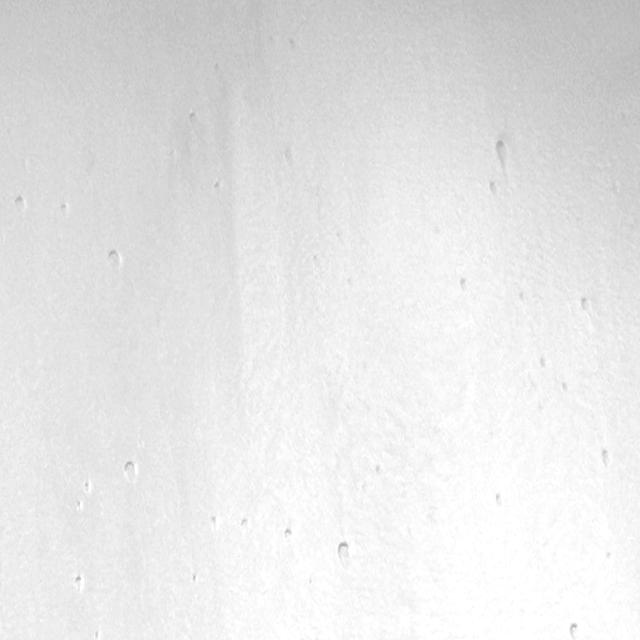pin holes: (489, 140, 512, 172), (333, 540, 356, 570), (105, 246, 126, 275), (120, 458, 141, 485), (183, 110, 204, 136), (576, 294, 597, 318), (596, 447, 616, 472), (13, 193, 30, 218), (486, 180, 505, 202), (567, 621, 587, 640), (70, 572, 86, 595), (283, 526, 299, 545), (459, 274, 473, 295), (537, 355, 555, 371), (494, 492, 508, 511), (558, 377, 572, 395), (239, 516, 253, 533), (58, 200, 71, 218), (373, 462, 386, 478), (208, 514, 220, 531), (72, 499, 84, 515), (213, 180, 225, 196), (84, 479, 95, 495), (286, 149, 294, 166), (191, 573, 201, 585), (606, 551, 614, 564), (92, 629, 103, 638)
